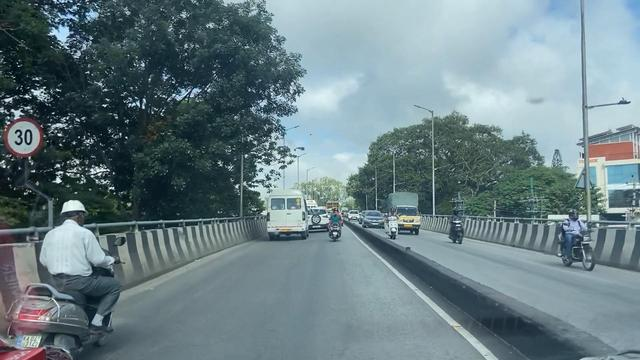HMV: (267, 193, 304, 238)
LMV: (29, 191, 111, 360), (332, 205, 343, 240)
